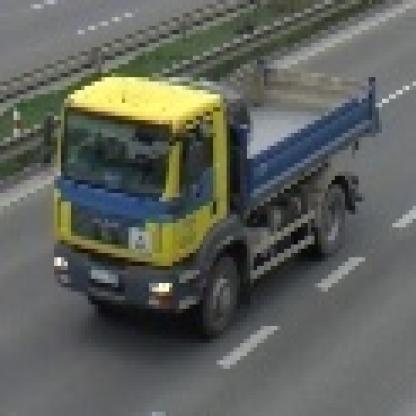truck: (42, 57, 377, 336)
